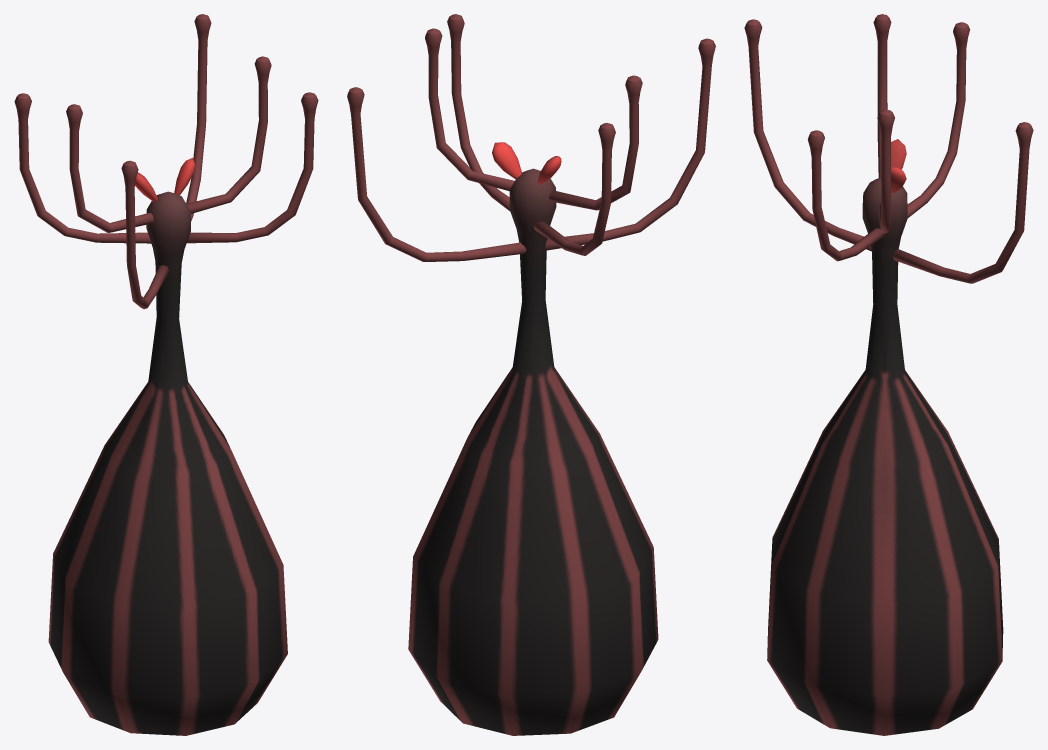
File: wujian_00.FBX
The picture shows the model from 3 angles, left to right: view 1: azimuth 30°, elevation 25°; view 2: azimuth 150°, elevation 25°; view 3: azimuth 270°, elevation 25°; orthographic projection. The views are drawn at different scales.
Parts seen in each view (by area): view 1: wujian_00; view 2: wujian_00; view 3: wujian_00.
Boxes of the visible parts, left/top/right/bottom form: wujian_00: left=14, top=14, right=318, bottom=735; wujian_00: left=347, top=14, right=715, bottom=735; wujian_00: left=744, top=14, right=1033, bottom=735.
Size of the model in its own units: 21.9 by 58.8 by 23.19.
